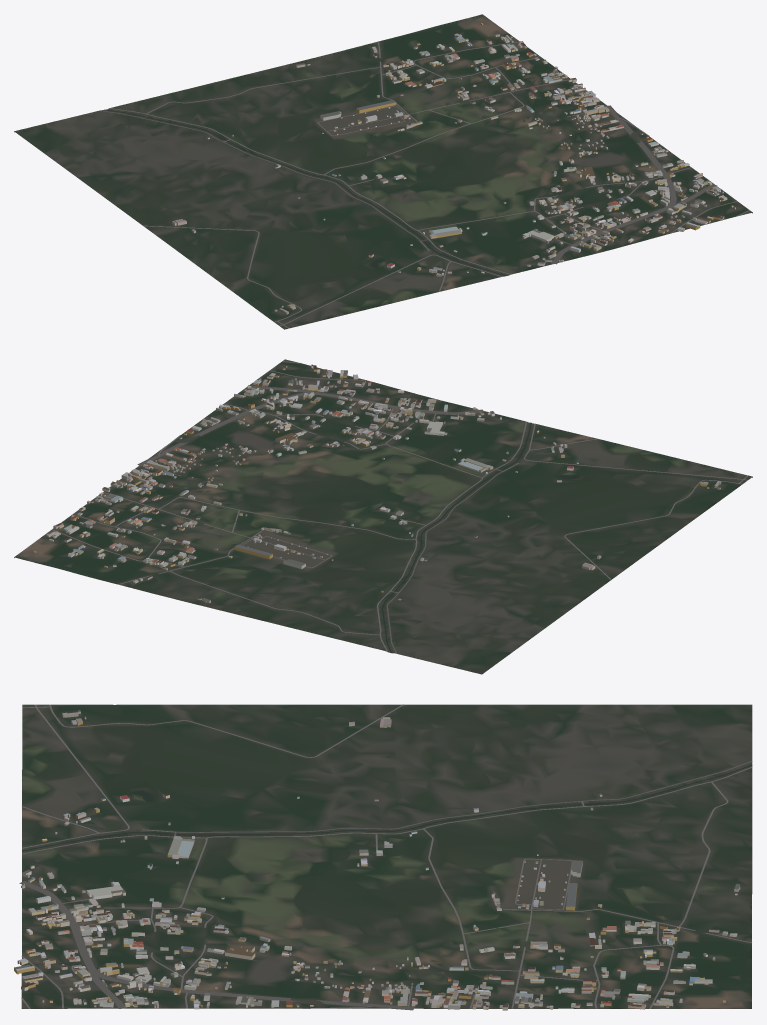
The picture shows the model from 3 angles, top to bottom: view 1: azimuth 30°, elevation 25°; view 2: azimuth 150°, elevation 25°; view 3: azimuth 270°, elevation 25°; orthographic projection. The views are drawn at different scales.
Parts seen in each view (by area): view 1: ground, buildings, roads, water; view 2: ground, buildings, roads; view 3: ground, buildings, roads, water.
Boxes of the visible parts, left/top/right/bottom form: ground: left=14, top=14, right=752, bottom=329; buildings: left=172, top=23, right=735, bottom=314; roads: left=99, top=41, right=749, bottom=328; water: left=104, top=109, right=506, bottom=275; ground: left=14, top=359, right=752, bottom=674; buildings: left=33, top=364, right=721, bottom=603; roads: left=52, top=361, right=748, bottom=653; ground: left=21, top=704, right=752, bottom=1008; buildings: left=14, top=710, right=740, bottom=1010; roads: left=19, top=704, right=752, bottom=1010; water: left=22, top=764, right=752, bottom=851.
Bounding box in the file's own units: 1408 × 23.23 × 1417.
